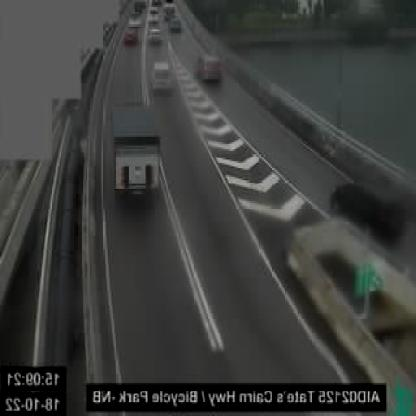Car: (327, 172, 407, 240), (196, 51, 224, 86), (149, 62, 175, 94), (121, 25, 140, 49), (146, 28, 162, 47), (169, 17, 182, 33)
Truck: (107, 101, 163, 206)
